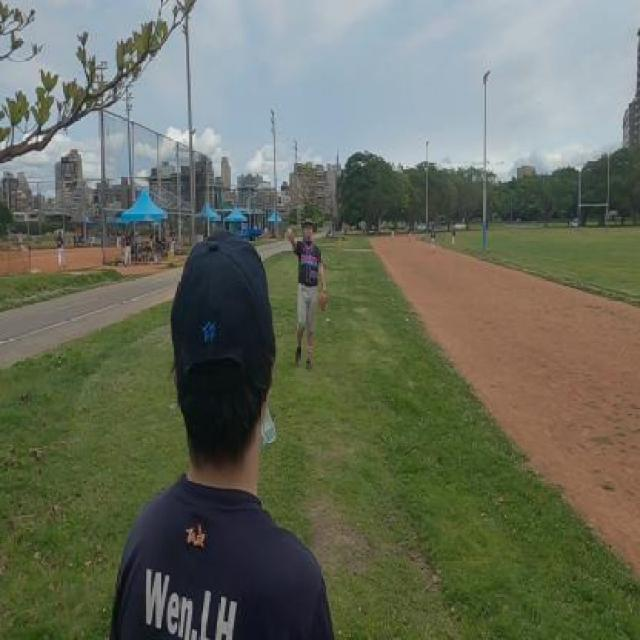baseball: (277, 192, 281, 200)
